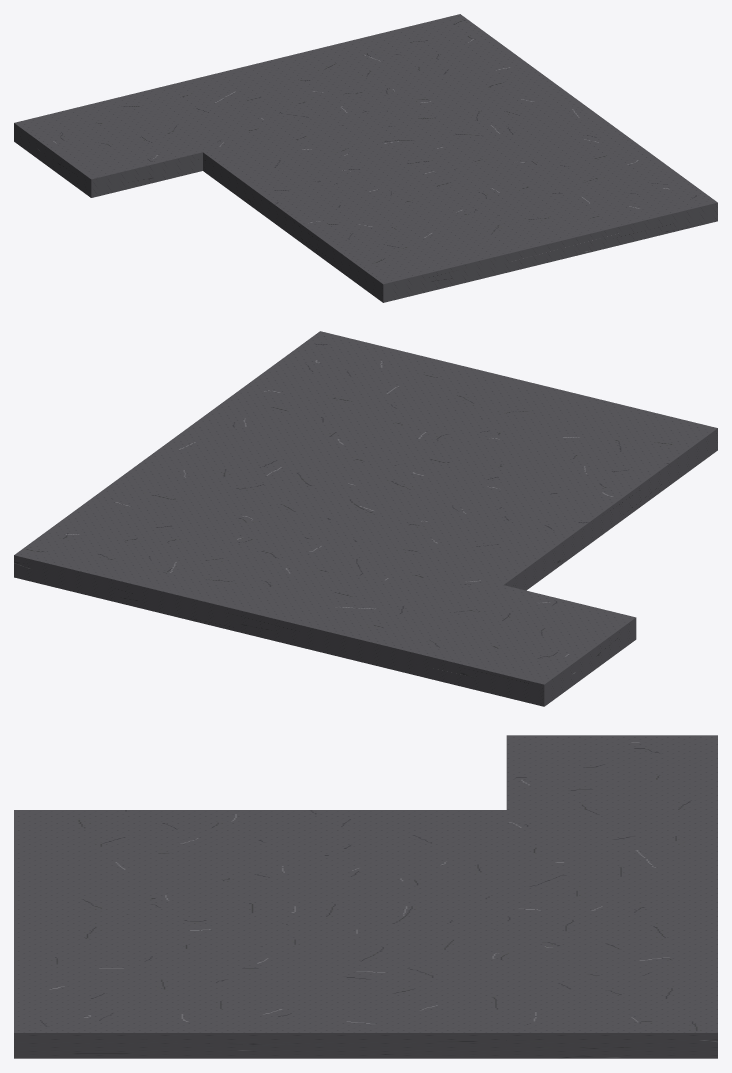
The model's file is Concrete Floor Stair Opened.fbx.
3 renders of one model, top to bottom at view 1: azimuth 30°, elevation 25°; view 2: azimuth 150°, elevation 25°; view 3: azimuth 270°, elevation 25°, orthographic. The views are drawn at different scales.
Parts seen in each view (by area): view 1: Floor For Stair; view 2: Floor For Stair; view 3: Floor For Stair.
Part boxes in pixels (x1,y1,x2,y2): Floor For Stair: (14,14,717,302); Floor For Stair: (14,331,717,706); Floor For Stair: (14,735,717,1058).
Bounding box in the file's own units: 1000 × 40 × 1000.
1 material, 1 textured.
